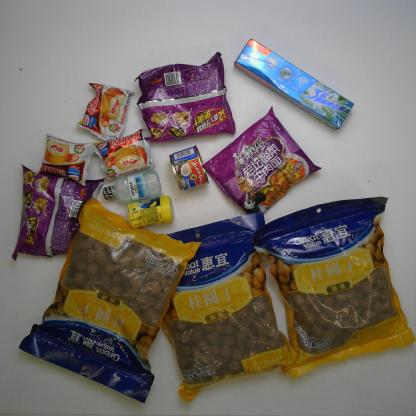Canned Food: (168, 146, 209, 191)
Dessert: (77, 80, 133, 144), (89, 127, 156, 179), (35, 131, 91, 186)
Dried Food: (18, 200, 204, 406), (136, 209, 299, 402), (254, 197, 414, 378)
Gum: (127, 196, 175, 230)
Instant Noodles: (201, 106, 324, 221), (10, 162, 106, 265), (134, 51, 237, 142)
Personal Hygiene: (234, 38, 354, 130), (100, 169, 163, 204)
